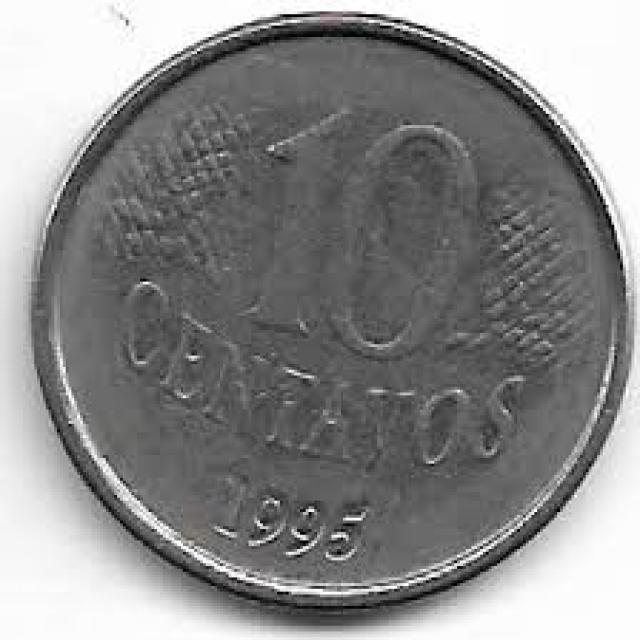10 cent: (40, 14, 640, 591)
